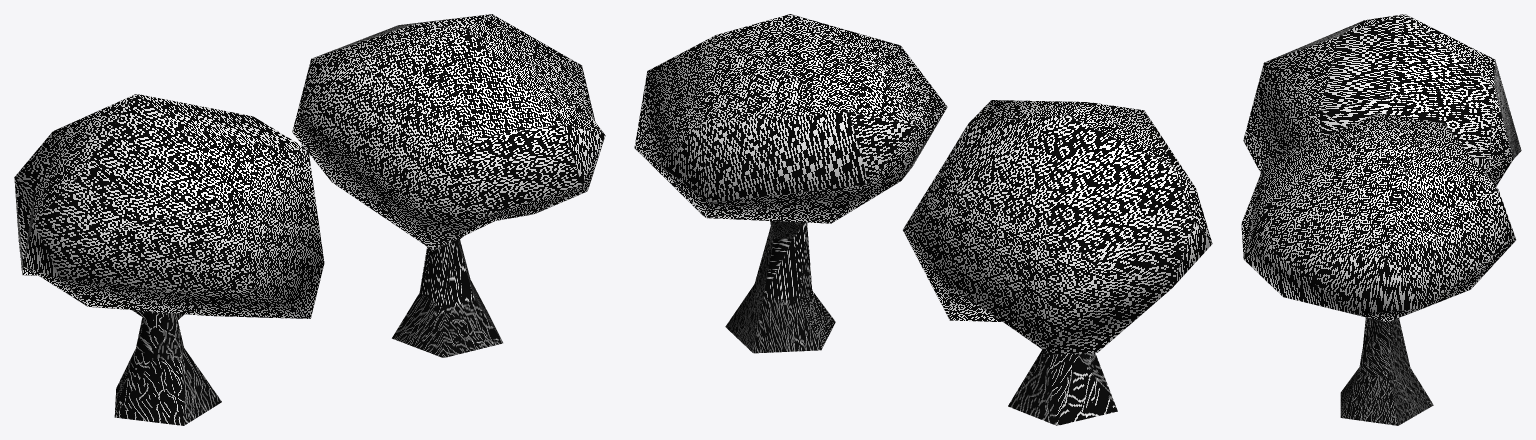
Rendered from trees.fbx.
3 renders of one model, left to right at view 1: azimuth 30°, elevation 25°; view 2: azimuth 150°, elevation 25°; view 3: azimuth 270°, elevation 25°, orthographic. The views are drawn at different scales.
Parts seen in each view (by area): view 1: Circle.002, Circle; view 2: Circle.002, Circle; view 3: Circle, Circle.002.
Part boxes in pixels (bbox=[...]): Circle.002: bbox=[14, 94, 324, 425]; Circle: bbox=[292, 14, 605, 357]; Circle.002: bbox=[903, 100, 1212, 425]; Circle: bbox=[634, 14, 947, 353]; Circle: bbox=[1241, 113, 1516, 425]; Circle.002: bbox=[1243, 14, 1521, 186].
Size of the model in its own units: 2317 by 1170 by 1251.
